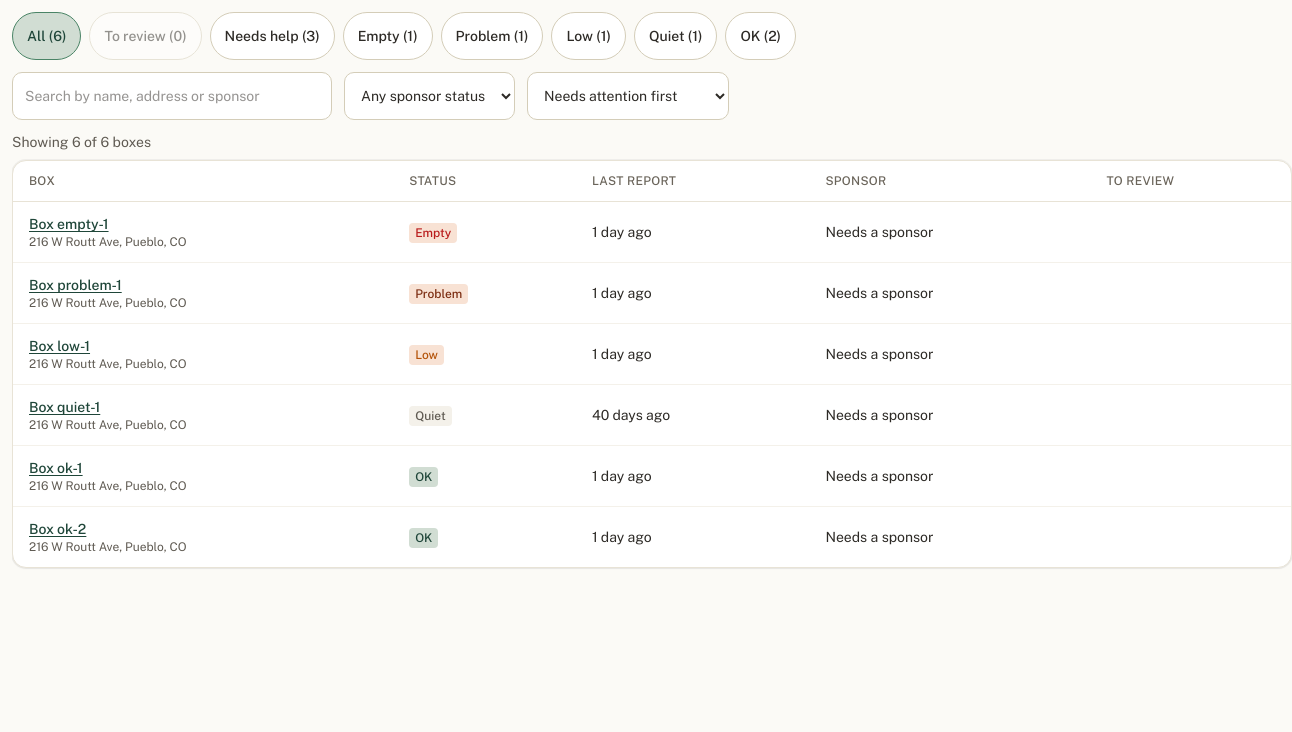
Test: AllBoxesTable — status filter buttons › clicking 'Needs help' filters to empty/problem/low only
Click the button "Needs help (3)" at (272, 36), box [210,12,335,60]
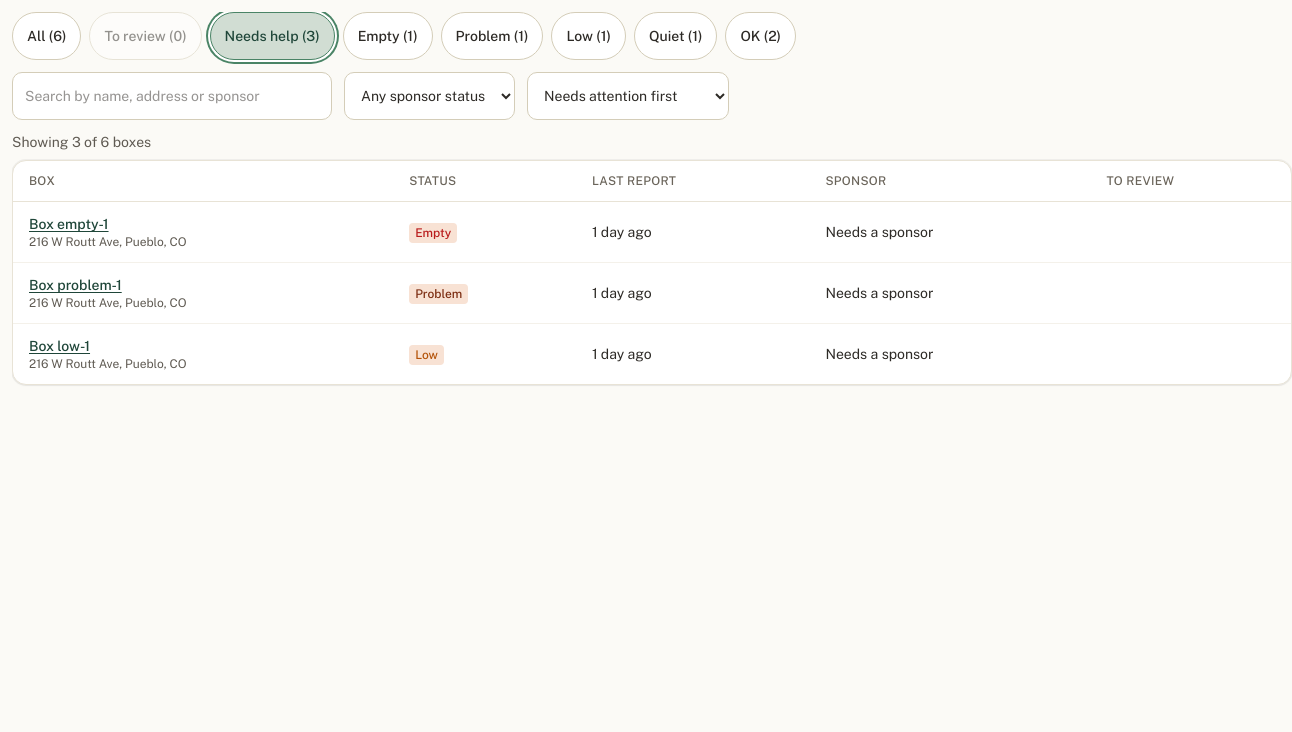
Now the text "Showing 3 of 6 boxes" is shown, box [12,134,151,150]
